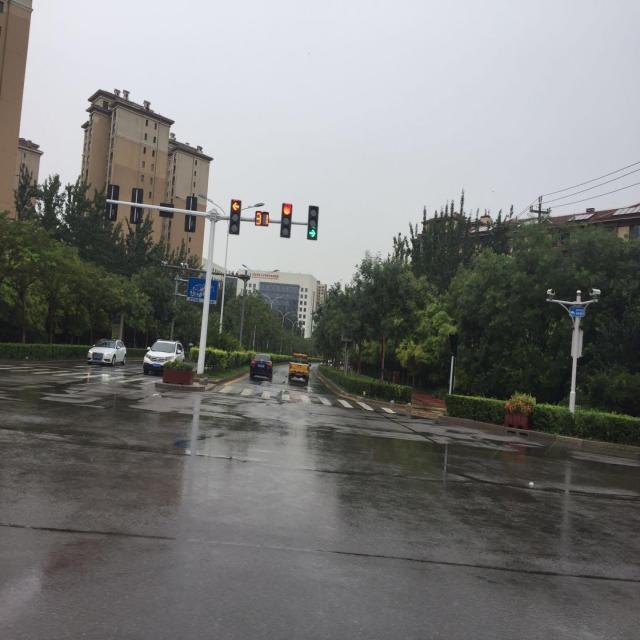car: (142, 338, 187, 375), (86, 339, 126, 364), (286, 349, 312, 384), (249, 350, 275, 380)
